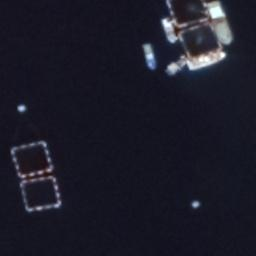square_solid: (174, 20, 225, 67), (7, 138, 57, 181), (16, 173, 65, 215), (161, 1, 214, 30)
